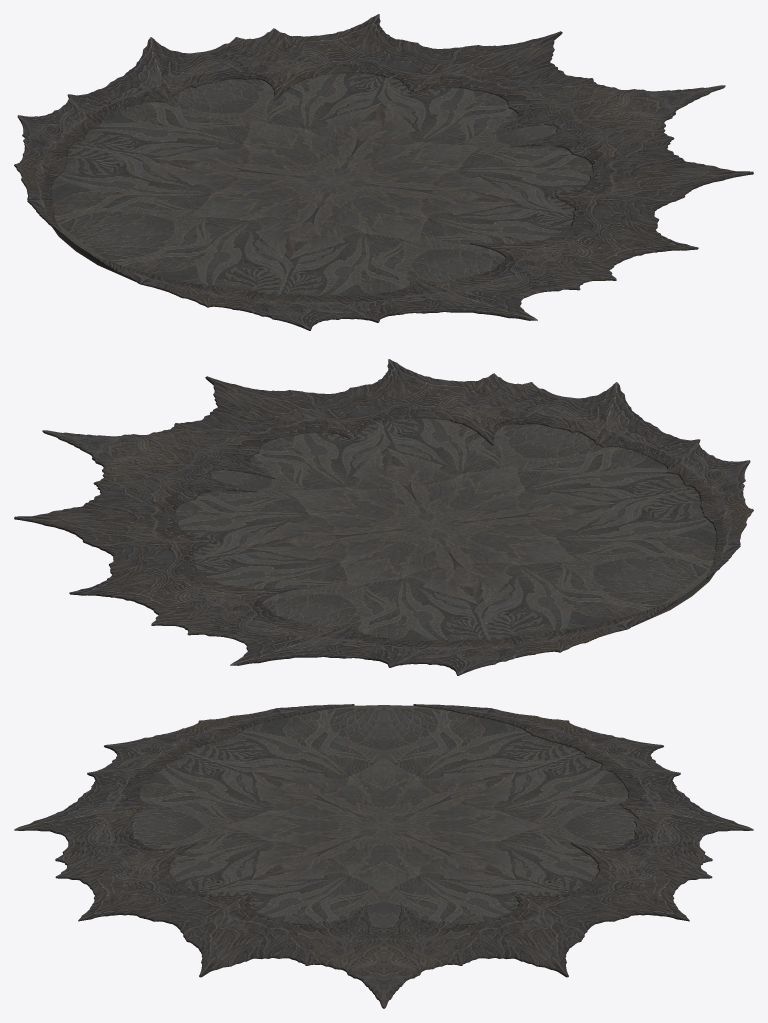
File: bg_rad_kamen_floor05_sm.obj
3 views of the same model, one above another, from view 1: azimuth 30°, elevation 25°; view 2: azimuth 150°, elevation 25°; view 3: azimuth 270°, elevation 25° (orthographic). The views are drawn at different scales.
Visible parts, largest first — view 1: bg_rad_kamen_floor05_sm_0, bg_rad_kamen_floor05_sm_3, bg_rad_kamen_floor05_sm_2, bg_rad_kamen_floor05_sm_1; view 2: bg_rad_kamen_floor05_sm_0, bg_rad_kamen_floor05_sm_3, bg_rad_kamen_floor05_sm_2, bg_rad_kamen_floor05_sm_1; view 3: bg_rad_kamen_floor05_sm_0, bg_rad_kamen_floor05_sm_3, bg_rad_kamen_floor05_sm_2, bg_rad_kamen_floor05_sm_1.
Boxes of the visible parts, bbox=[...] form: bg_rad_kamen_floor05_sm_0: bbox=[51, 72, 593, 296]; bg_rad_kamen_floor05_sm_3: bbox=[14, 28, 616, 330]; bg_rad_kamen_floor05_sm_2: bbox=[283, 14, 753, 272]; bg_rad_kamen_floor05_sm_1: bbox=[150, 102, 521, 259]; bg_rad_kamen_floor05_sm_0: bbox=[174, 417, 716, 641]; bg_rad_kamen_floor05_sm_3: bbox=[151, 373, 753, 675]; bg_rad_kamen_floor05_sm_2: bbox=[14, 359, 484, 617]; bg_rad_kamen_floor05_sm_1: bbox=[246, 447, 618, 604]; bg_rad_kamen_floor05_sm_0: bbox=[129, 705, 638, 928]; bg_rad_kamen_floor05_sm_3: bbox=[14, 704, 753, 905]; bg_rad_kamen_floor05_sm_2: bbox=[71, 869, 696, 1008]; bg_rad_kamen_floor05_sm_1: bbox=[226, 759, 541, 892].
Bounding box in the file's own units: 15.08 × 0.1697 × 15.54.
Materials: 4 (4 with a texture image).
